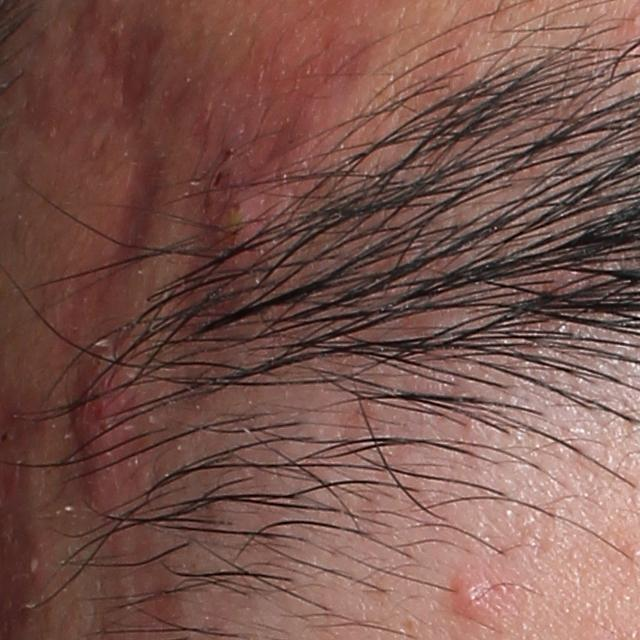nodule: (193, 102, 311, 333), (69, 330, 157, 504)
papule: (447, 573, 492, 614)
